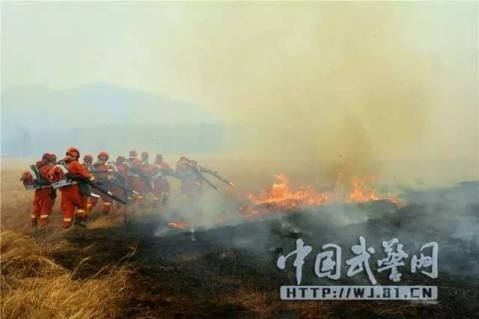fire: (242, 173, 403, 208), (166, 216, 190, 231)
